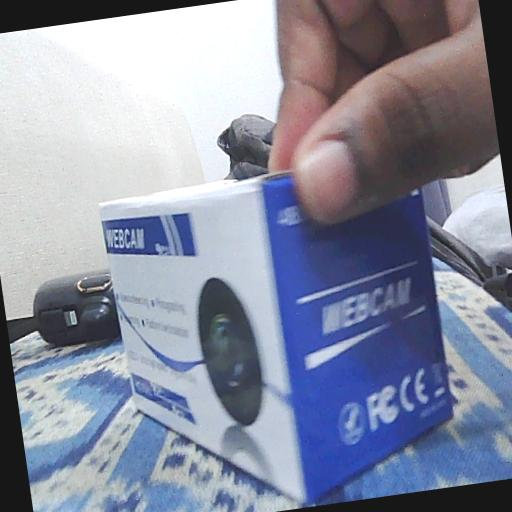webcam_box: (95, 152, 466, 512)
